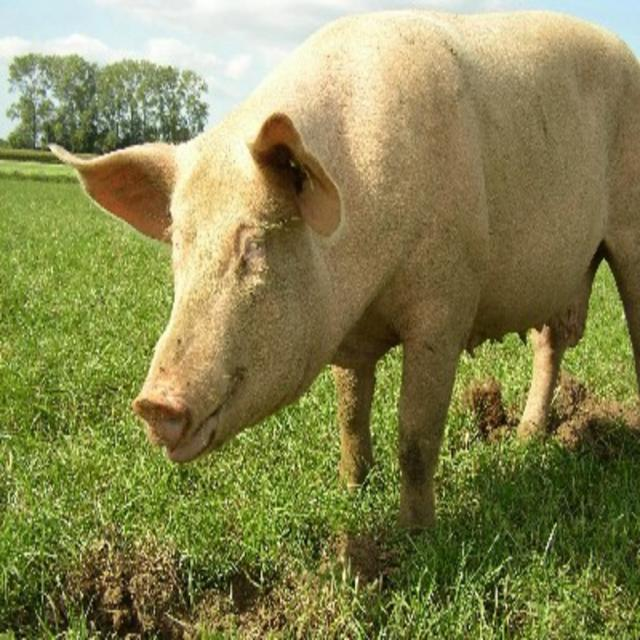Pig: (45, 6, 638, 540)
